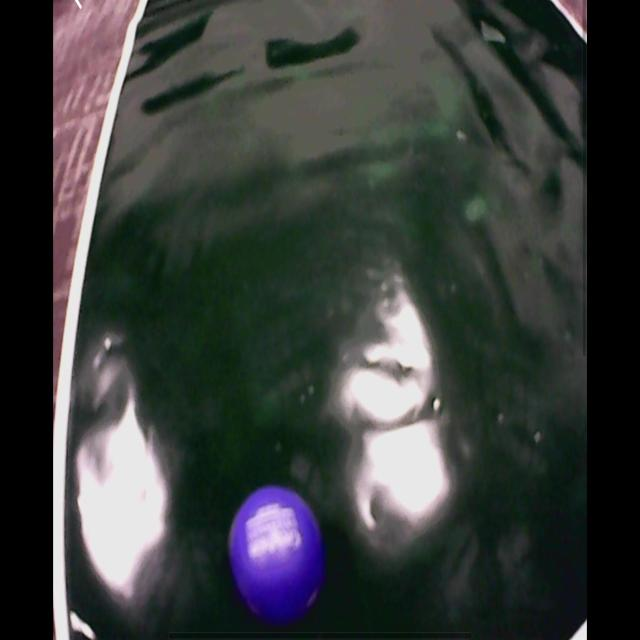ball: (233, 490, 321, 616)
